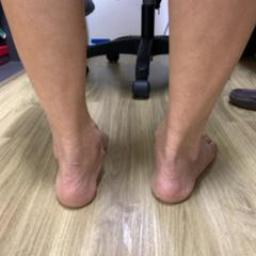Back View -Both Feet-: (30, 85, 231, 224)
